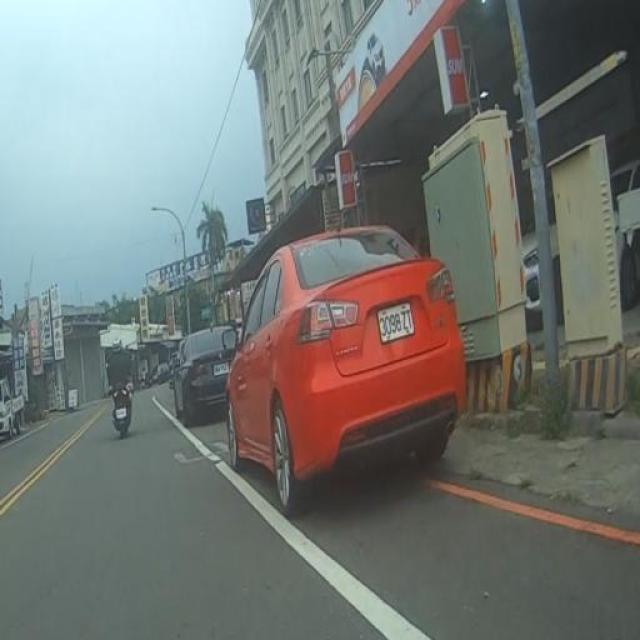illegalparking: (222, 228, 465, 511), (169, 326, 239, 424)
